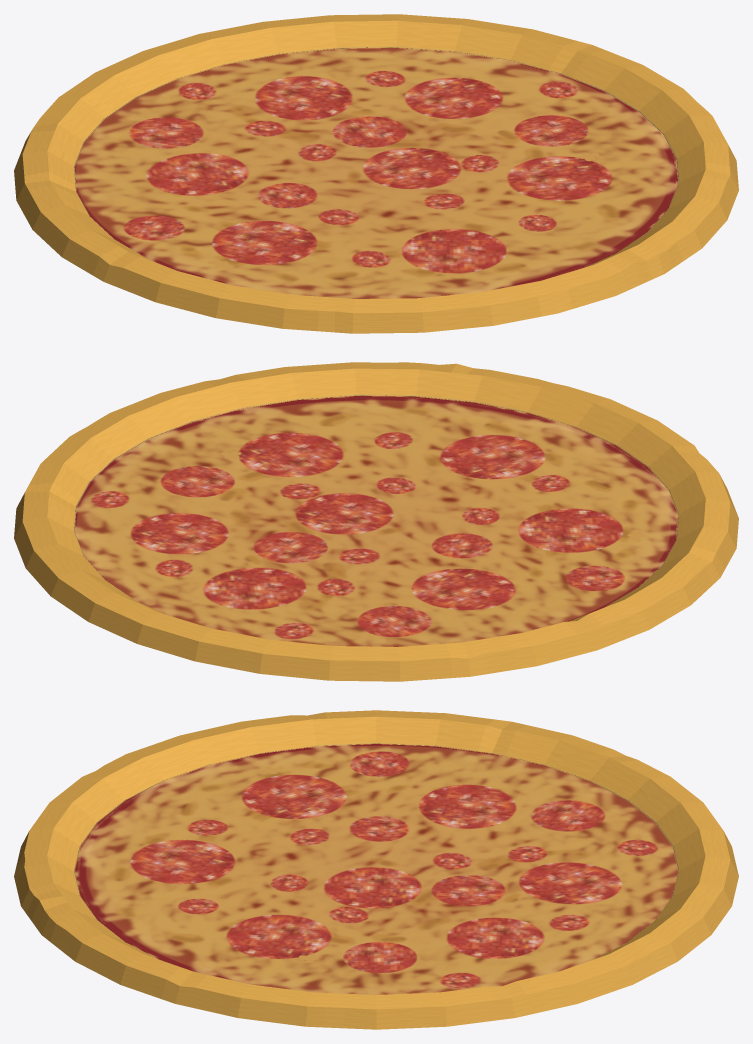
The model's file is WorldItem_PizzaPepperoni.fbx.
3 renders of one model, top to bottom at view 1: azimuth 30°, elevation 25°; view 2: azimuth 150°, elevation 25°; view 3: azimuth 270°, elevation 25°, orthographic.
Parts seen in each view (by area): view 1: Pizza; view 2: Pizza; view 3: Pizza.
Boxes of the visible parts, x1,y1,x2,y2 form: Pizza: (14, 14, 738, 333); Pizza: (14, 362, 738, 681); Pizza: (14, 710, 738, 1029).
Size of the model in its own units: 45.79 by 2.22 by 45.79.
